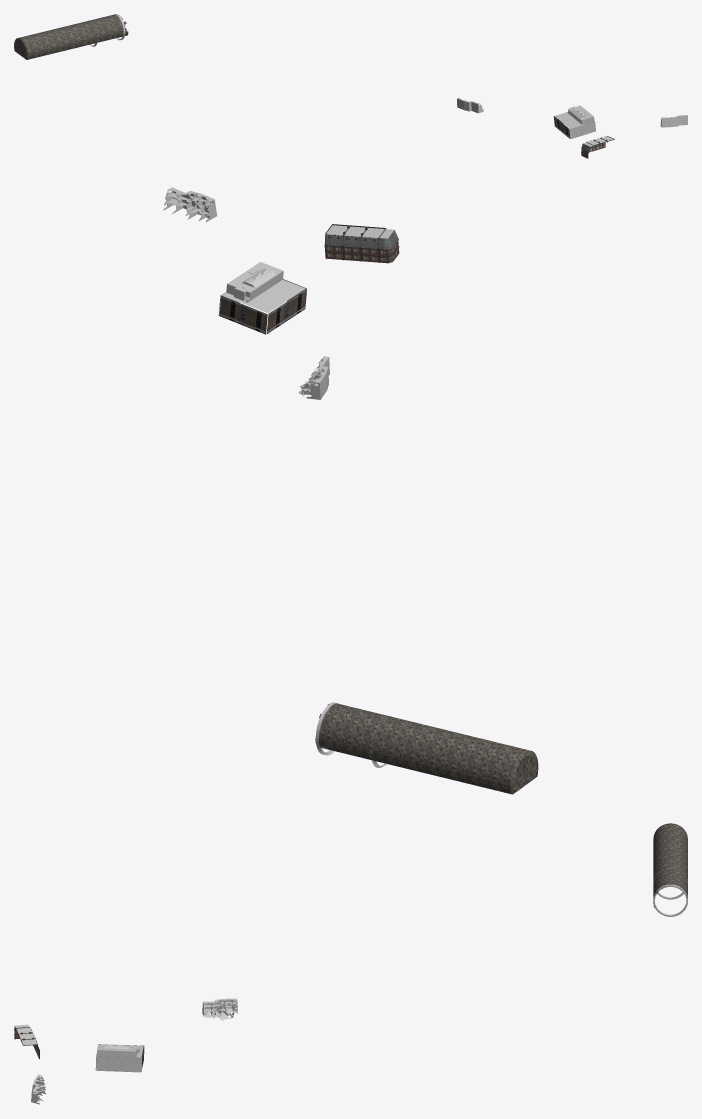
Rendered from Distant03.fbx.
The picture shows the model from 3 angles, top to bottom: view 1: azimuth 30°, elevation 25°; view 2: azimuth 150°, elevation 25°; view 3: azimuth 270°, elevation 25°; orthographic projection. The views are drawn at different scales.
Visible parts, largest first — view 1: LODGroup_1_MainMesh_1_SubMesh_4, LODGroup_1_MainMesh_1_SubMesh_1; view 2: LODGroup_1_MainMesh_1_SubMesh_4, LODGroup_1_MainMesh_1_SubMesh_1, LODGroup_1_MainMesh_1_SubMesh_2, LODGroup_1_MainMesh_1_SubMesh_5; view 3: LODGroup_1_MainMesh_1_SubMesh_1, LODGroup_1_MainMesh_1_SubMesh_4.
Boxes of the visible parts, <box> form: LODGroup_1_MainMesh_1_SubMesh_4: <box>14,14,128,59</box>; LODGroup_1_MainMesh_1_SubMesh_1: <box>457,97,687,146</box>; LODGroup_1_MainMesh_1_SubMesh_4: <box>315,702,538,794</box>; LODGroup_1_MainMesh_1_SubMesh_1: <box>163,187,394,399</box>; LODGroup_1_MainMesh_1_SubMesh_2: <box>218,289,306,334</box>; LODGroup_1_MainMesh_1_SubMesh_5: <box>325,240,399,263</box>; LODGroup_1_MainMesh_1_SubMesh_1: <box>15,998,237,1104</box>; LODGroup_1_MainMesh_1_SubMesh_4: <box>653,823,687,908</box>.
Bounding box in the file's own units: 49055 × 2829 × 52029.
